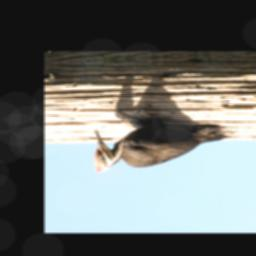Woodpecker: (91, 103, 236, 174)
